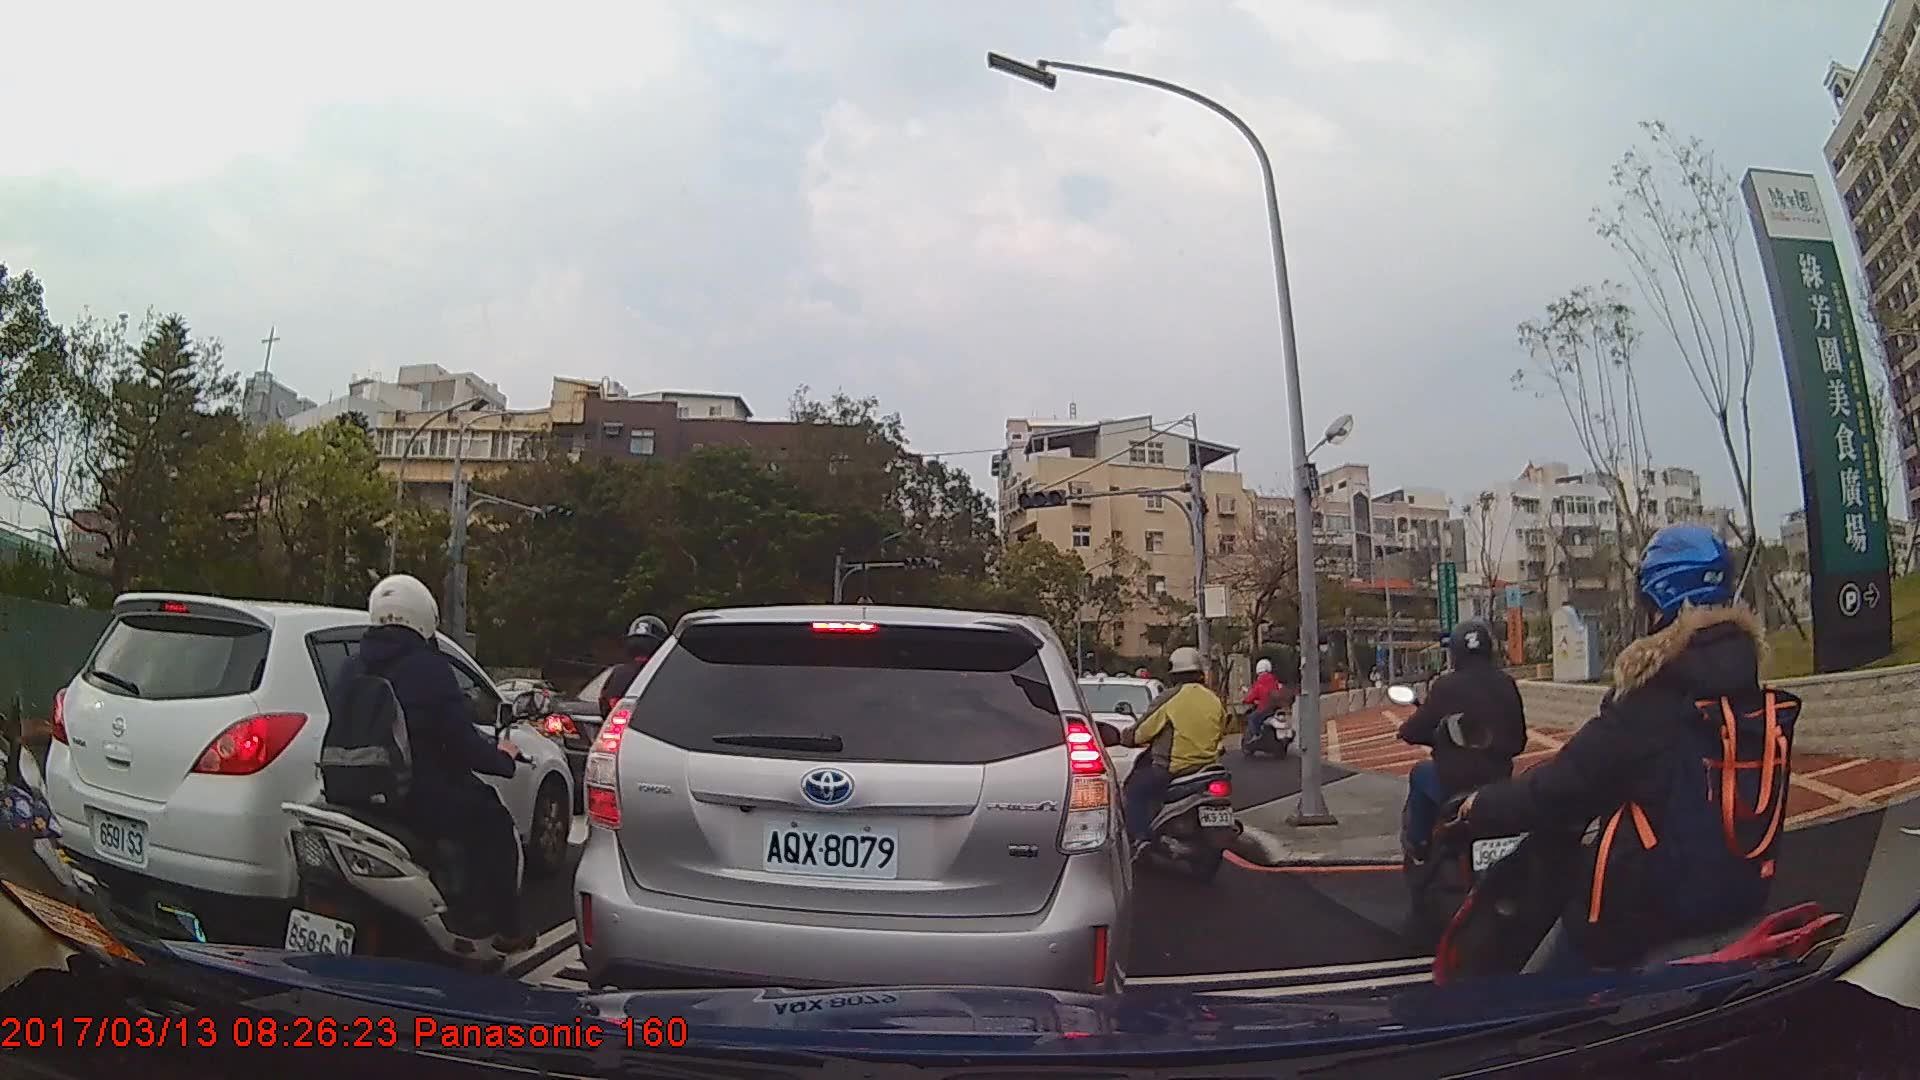pedestrian: (1720, 570, 1761, 651)
rider: (1426, 520, 1852, 1061), (273, 567, 539, 1015), (1380, 617, 1558, 948), (1119, 644, 1240, 881), (1243, 657, 1294, 763)
vehicle: (570, 602, 1137, 1034), (46, 593, 572, 936), (490, 677, 562, 722)
